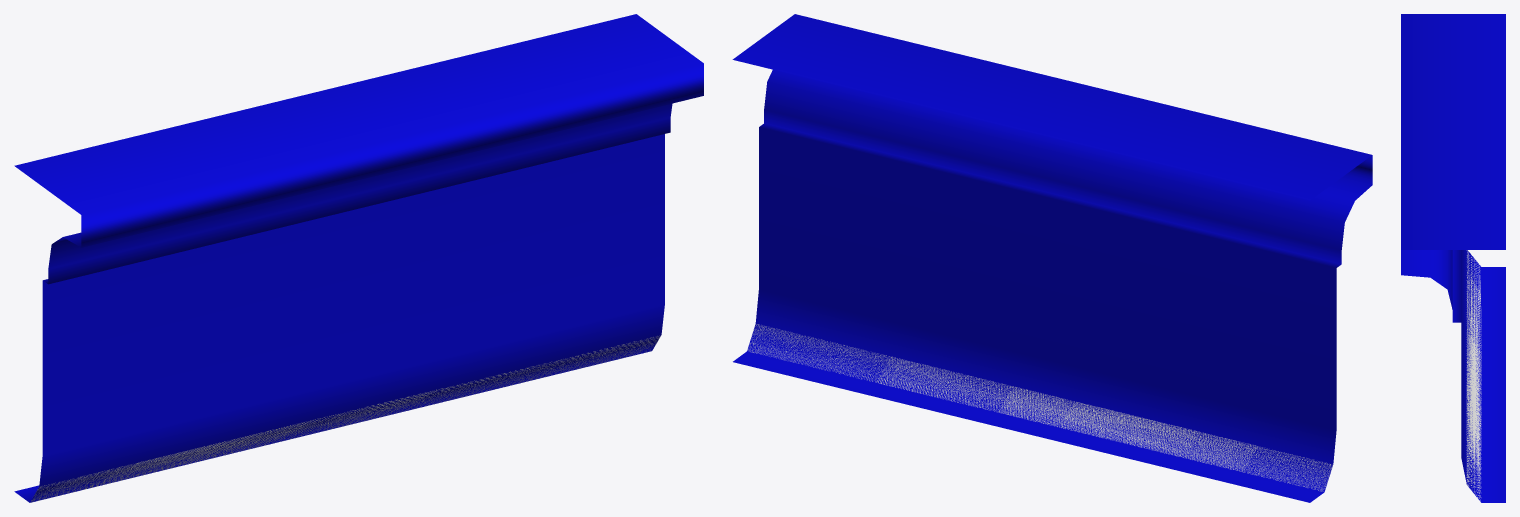
File: SM_FriezeC2m.fbx
3 views of the same model, side by side, from view 1: azimuth 30°, elevation 25°; view 2: azimuth 150°, elevation 25°; view 3: azimuth 270°, elevation 25° (orthographic). The views are drawn at different scales.
Parts seen in each view (by area): view 1: SM_FriezeC2m; view 2: SM_FriezeC2m; view 3: SM_FriezeC2m.
Part boxes in pixels (left/top/right/bottom): SM_FriezeC2m: left=14, top=14, right=703, bottom=502; SM_FriezeC2m: left=732, top=14, right=1372, bottom=502; SM_FriezeC2m: left=1401, top=14, right=1505, bottom=502.
Bounding box in the file's own units: 200 × 100 × 37.5.
